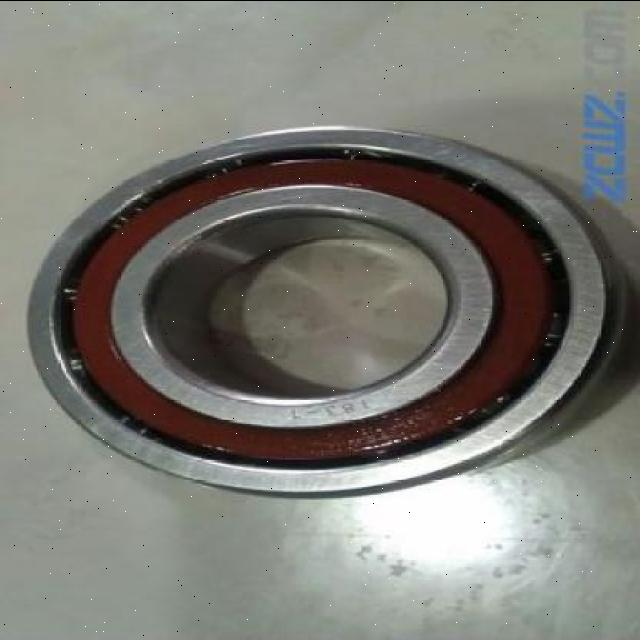Bearing: (25, 118, 623, 500)
